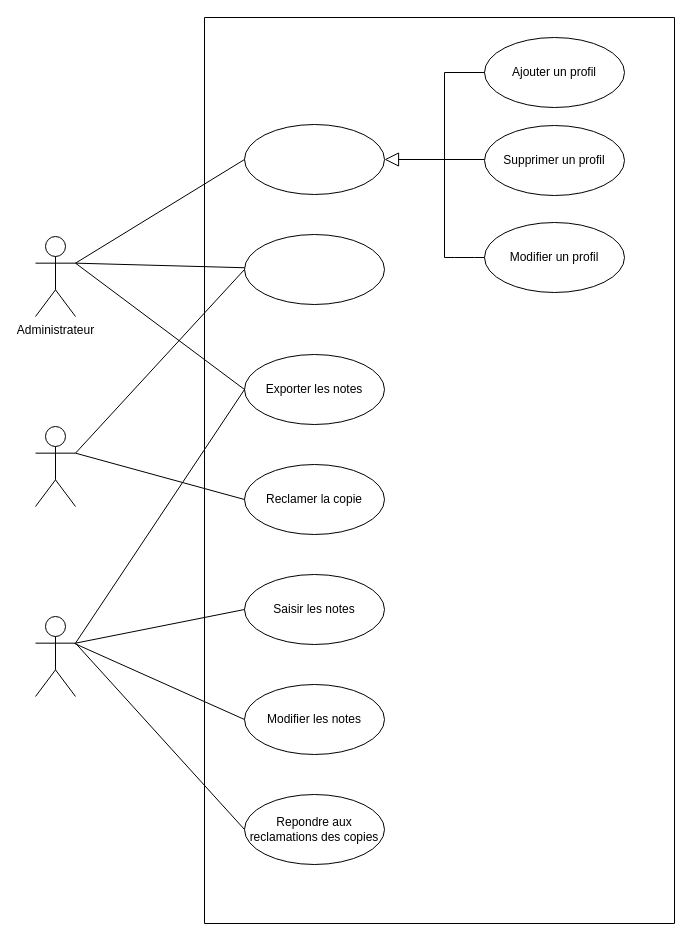
Some shapes in this 693 by 942 pixel diagram are drawn without their labels. The shapes that lost their labels are listed below. From the top down, each one's centre as x and y in pixels, then its label:
At point (314, 159): "Gerer un profil".
At point (314, 269): "Visualiser les notes".
At point (55, 466): "Etudiant".
At point (55, 656): "Professeur".
